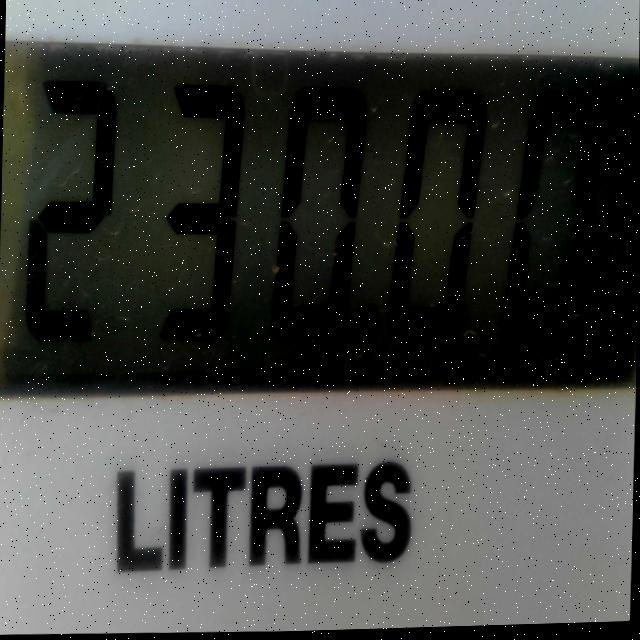.: (349, 291, 393, 365)
0: (275, 86, 368, 344), (387, 91, 478, 348), (513, 94, 598, 336)
2: (18, 66, 120, 342)
3: (157, 77, 244, 344)
